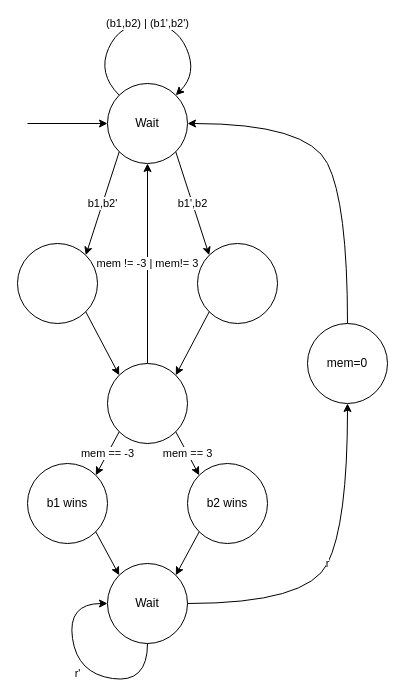
This 405x697 diagram has some shape labels left out. The shapes that lost their labels are listed below. From the top down, each one's box as (x1, y1, x2, y2) in pixels, then its label:
(16, 242, 98, 324): mem-1
(196, 242, 278, 324): mem+1
(106, 362, 188, 444): mem check
